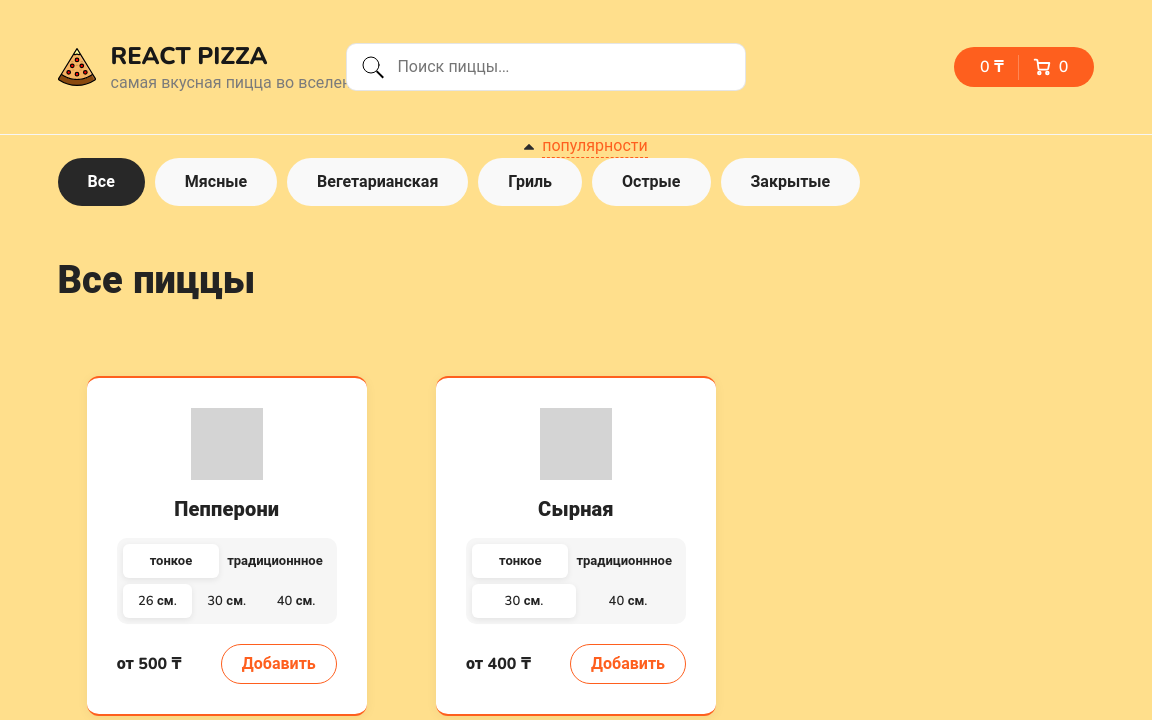
Test: Home component › adds pizza to cart
Expected: the heading "Пепперони" is shown, 174,496 -> 279,523
Step 1. Click the button "Добавить" next to "500" → (279, 664), box 221,644 -> 337,684
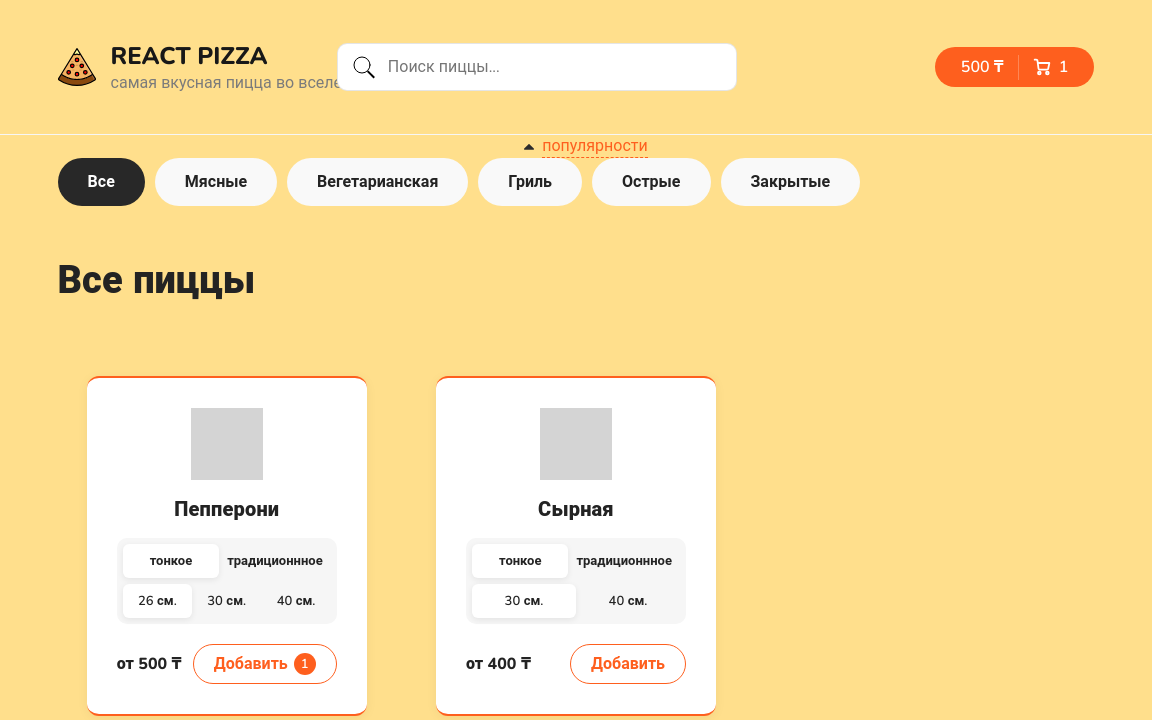
Step 2. Click the link named "cart-button" → (1015, 67), box 935,47 -> 1094,87
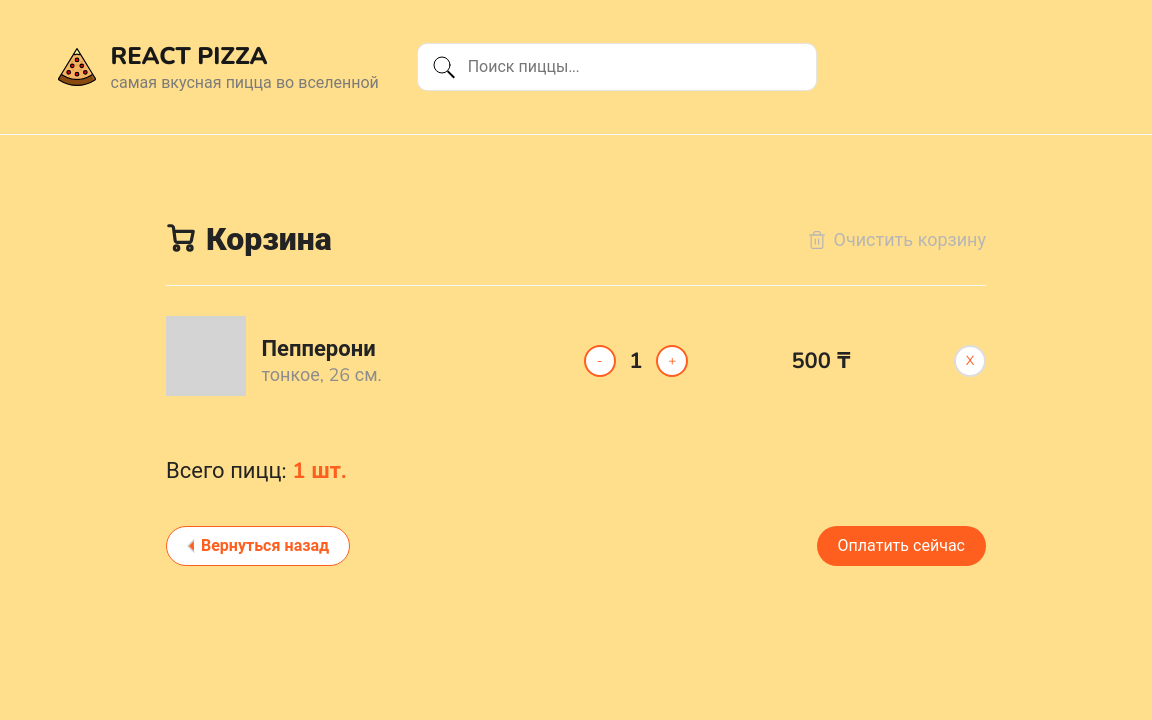
Expected: the heading "Пепперони" is shown, 262,334 -> 376,364
Result: the heading "Корзина" is shown at 166,225 -> 332,255
